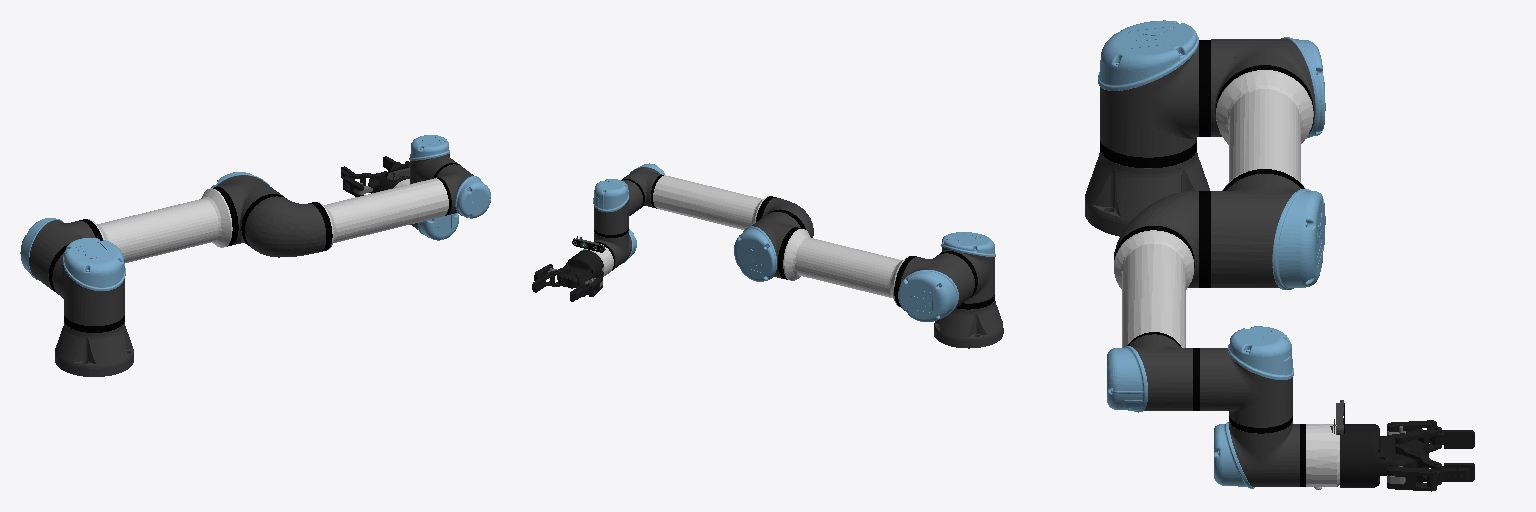
--- What the picture shows (computed from the rendered views, not written in the file) ---
The picture shows the robot from 3 angles, left to right: view 1: azimuth 30°, elevation 25°; view 2: azimuth 150°, elevation 25°; view 3: azimuth 270°, elevation 25°; orthographic projection.
Robot: mujoco_ur5e — 49 links, 48 joints (14 revolute, 34 fixed); root link world; default pose: all joints at 0.
Links seen in each view (by area): view 1: forearm_link, upper_arm_link, shoulder_link, base, wrist_1_link, wrist_2_link; view 2: upper_arm_link, forearm_link, base, wrist_1_link, shoulder_link, gripper_base, wrist_2_link; view 3: upper_arm_link, forearm_link, shoulder_link, wrist_1_link, base, wrist_2_link, gripper_base, wrist_3_link, left_coupler, base_mount, right_spring_link, left_spring_link (+1 smaller).
Boxes of the visible links, x1,y1,x2,y2 form: forearm_link: (245,163,490,257); upper_arm_link: (20,172,286,291); shoulder_link: (49,238,125,325); base: (55,315,133,376); wrist_1_link: (409,135,459,183); wrist_2_link: (410,213,458,240); upper_arm_link: (734,210,974,321); forearm_link: (622,163,813,237); base: (934,295,1003,348); wrist_1_link: (593,179,642,237); shoulder_link: (937,232,995,303); gripper_base: (557,252,600,288); wrist_2_link: (594,229,636,270); upper_arm_link: (1199,37,1325,289); forearm_link: (1107,191,1199,412); shoulder_link: (1098,20,1210,157); wrist_1_link: (1200,326,1293,433); base: (1085,141,1209,236); wrist_2_link: (1214,421,1305,488); gripper_base: (1352,424,1424,487); wrist_3_link: (1306,424,1339,489); left_coupler: (1387,467,1436,491); base_mount: (1340,424,1351,487); right_spring_link: (1395,427,1441,455); left_spring_link: (1395,444,1441,484).
Size in the robot's own frame: 0.9667 by 0.4627 by 0.2345 metres.
Meshes: 37 distinct files referenced, 42 mesh visuals loaded (36 binary STL); not drawn: 1 (reference not matched to a file when rendering).

robot.urdf — mujoco_ur5e:
<?xml version="1.0" ?>
<!--
    This URDF model was generated by transforming the MuJoCo model [2] using the tool [1].
    [1] https://pypi.org/project/mjcf-urdf-simple-converter/
    [2] https://github.com/isri-aist/RoboManipBaselines/tree/master/robo_manip_baselines/envs/assets/mujoco/robots/ur5e
-->
<robot name="mujoco_ur5e">
   <link name="world">
      <inertial>
         <origin xyz="0.0 0.0 0.0" rpy="0.0 0.0 0.0"/>
         <mass value="0.0"/>
         <inertia ixx="0.0" iyy="0.0" izz="0.0" ixy="0" ixz="0" iyz="0"/>
      </inertial>
   </link>
   <link name="ur5e_root_frame">
      <inertial>
         <origin xyz="0.0 0.0 0.0" rpy="0.0 0.0 0.0"/>
         <mass value="0.0"/>
         <inertia ixx="0.0" iyy="0.0" izz="0.0" ixy="0" ixz="0" iyz="0"/>
      </inertial>
   </link>
   <link name="world2ur5e_root_frame_fixed_jointbody">
      <inertial>
         <origin xyz="0.0 0.0 0.0" rpy="0.0 0.0 0.0"/>
         <mass value="0.001"/>
         <inertia ixx="1e-09" iyy="1e-09" izz="1e-09" ixy="0" ixz="0" iyz="0"/>
      </inertial>
   </link>
   <joint type="fixed" name="world2ur5e_root_frame_fixed">
      <parent link="world"/>
      <child link="world2ur5e_root_frame_fixed_jointbody"/>
      <origin xyz="0.0 0.0 0.0" rpy="0.0 0.0 0.0"/>
   </joint>
   <joint type="fixed" name="world2ur5e_root_frame_fixed_offset">
      <parent link="world2ur5e_root_frame_fixed_jointbody"/>
      <child link="ur5e_root_frame"/>
      <origin xyz="-0.0 -0.0 -0.0" rpy="0.0 0.0 0.0"/>
   </joint>
   <link name="base">
      <inertial>
         <origin xyz="0.0 0.0 0.0" rpy="0.0 0.0 0.0"/>
         <mass value="4.0"/>
         <inertia ixx="0.00443333156" iyy="0.00443333156" izz="0.0072" ixy="0" ixz="0" iyz="0"/>
      </inertial>
      <visual name="base_0">
         <origin xyz="6.729613291636444e-07 -3.658243672095132e-07 0.09357351479123255" rpy="-1.47188270226107 -1.5707855306182412 -2.9583795849873327"/>
         <geometry>
            <mesh filename="meshes/converted_base_0.stl"/>
         </geometry>
         <material name="black"/>
      </visual>
      <visual name="base_1">
         <origin xyz="1.5050970612118353e-07 5.029437897684572e-07 0.03113409208382618" rpy="-1.398999536983526 -1.570774933802305 -1.0876125512811239"/>
         <geometry>
            <mesh filename="meshes/converted_base_1.stl"/>
         </geometry>
         <material name="jointgray"/>
      </visual>
   </link>
   <link name="ur5e_root_frame2base_fixed_jointbody">
      <inertial>
         <origin xyz="0.0 0.0 0.0" rpy="0.0 0.0 0.0"/>
         <mass value="0.001"/>
         <inertia ixx="1e-09" iyy="1e-09" izz="1e-09" ixy="0" ixz="0" iyz="0"/>
      </inertial>
   </link>
   <joint type="fixed" name="ur5e_root_frame2base_fixed">
      <parent link="ur5e_root_frame"/>
      <child link="ur5e_root_frame2base_fixed_jointbody"/>
      <origin xyz="0.0 0.0 0.0" rpy="0.0 0.0 0.0"/>
   </joint>
   <joint type="fixed" name="ur5e_root_frame2base_fixed_offset">
      <parent link="ur5e_root_frame2base_fixed_jointbody"/>
      <child link="base"/>
      <origin xyz="-0.0 -0.0 -0.0" rpy="0.0 0.0 0.0"/>
   </joint>
   <link name="shoulder_link">
      <inertial>
         <origin xyz="0.0 0.0 0.0" rpy="0.0 0.0 0.0"/>
         <mass value="3.7"/>
         <inertia ixx="0.0102675" iyy="0.0102675" izz="0.00666" ixy="0" ixz="0" iyz="0"/>
      </inertial>
      <visual name="shoulder_0">
         <origin xyz="0.00015791990090556265 -0.008422927184789035 0.04825544231361248" rpy="2.972049948535049 -1.2403403851965114 -1.5664480416259279"/>
         <geometry>
            <mesh filename="meshes/converted_shoulder_0.stl"/>
         </geometry>
         <material name="urblue"/>
      </visual>
      <visual name="shoulder_1">
         <origin xyz="1.0221602485018881e-06 0.06888462434941042 -0.0005032847963257957" rpy="0.16997294871325141 -1.5622871640585956e-05 1.5708061583761173"/>
         <geometry>
            <mesh filename="meshes/converted_shoulder_1.stl"/>
         </geometry>
         <material name="black"/>
      </visual>
      <visual name="shoulder_2">
         <origin xyz="-4.987111589031359e-05 0.0005636150230643856 -0.01875771788843443" rpy="1.6252845451898668 0.7431999550369857 1.5734657719034488"/>
         <geometry>
            <mesh filename="meshes/converted_shoulder_2.stl"/>
         </geometry>
         <material name="jointgray"/>
      </visual>
   </link>
   <link name="shoulder_pan_joint_jointbody">
      <inertial>
         <origin xyz="0.0 0.0 0.0" rpy="0.0 0.0 0.0"/>
         <mass value="0.001"/>
         <inertia ixx="1e-09" iyy="1e-09" izz="1e-09" ixy="0" ixz="0" iyz="0"/>
      </inertial>
   </link>
   <joint type="revolute" name="shoulder_pan_joint">
      <parent link="base"/>
      <child link="shoulder_pan_joint_jointbody"/>
      <origin xyz="0.0 0.0 0.163" rpy="0.0 0.0 0.0"/>
      <axis xyz="0.0 0.0 1.0"/>
      <limit lower="-6.28319" upper="6.28319" effort="100" velocity="100"/>
   </joint>
   <joint type="fixed" name="shoulder_pan_joint_offset">
      <parent link="shoulder_pan_joint_jointbody"/>
      <child link="shoulder_link"/>
      <origin xyz="-0.0 -0.0 -0.0" rpy="0.0 0.0 0.0"/>
   </joint>
   <link name="upper_arm_link">
      <inertial>
         <origin xyz="0.0 0.0 0.2125" rpy="0.0 0.0 0.0"/>
         <mass value="8.393"/>
         <inertia ixx="0.133886" iyy="0.133886" izz="0.0151074" ixy="0" ixz="0" iyz="0"/>
      </inertial>
      <visual name="upperarm_0">
         <origin xyz="-3.5760646000637493e-06 -0.00019999968769833566 0.21213517773732127" rpy="-0.0003305440898112577 -1.48494256579923e-06 -0.35511939855508967"/>
         <geometry>
            <mesh filename="meshes/converted_upperarm_0.stl"/>
         </geometry>
         <material name="linkgray"/>
      </visual>
      <visual name="upperarm_1">
         <origin xyz="-7.533427155925417e-07 -0.02455902479462408 0.2981274589864789" rpy="0.17716176130958655 7.970340488805405e-05 -0.0004820288661456923"/>
         <geometry>
            <mesh filename="meshes/converted_upperarm_1.stl"/>
         </geometry>
         <material name="black"/>
      </visual>
      <visual name="upperarm_2">
         <origin xyz="1.2475193933552453e-05 -0.020613766259404608 0.21354779136318264" rpy="-4.278980147820466e-05 -0.009396328570252743 1.5726071657176126"/>
         <geometry>
            <mesh filename="meshes/converted_upperarm_2.stl"/>
         </geometry>
         <material name="jointgray"/>
      </visual>
      <visual name="upperarm_3">
         <origin xyz="-1.6738860146607153e-05 0.04530972331282584 0.21224046051237042" rpy="-1.117038519860003e-05 -0.0003347325829139436 1.5712747080499256"/>
         <geometry>
            <mesh filename="meshes/converted_upperarm_3.stl"/>
         </geometry>
         <material name="urblue"/>
      </visual>
   </link>
   <link name="shoulder_lift_joint_jointbody">
      <inertial>
         <origin xyz="0.0 0.0 0.0" rpy="0.0 0.0 0.0"/>
         <mass value="0.001"/>
         <inertia ixx="1e-09" iyy="1e-09" izz="1e-09" ixy="0" ixz="0" iyz="0"/>
      </inertial>
   </link>
   <joint type="revolute" name="shoulder_lift_joint">
      <parent link="shoulder_link"/>
      <child link="shoulder_lift_joint_jointbody"/>
      <origin xyz="0.0 0.138 0.0" rpy="-0.0 1.5707963267948966 0.0"/>
      <axis xyz="0.0 1.0 0.0"/>
      <limit lower="-6.28319" upper="6.28319" effort="100" velocity="100"/>
   </joint>
   <joint type="fixed" name="shoulder_lift_joint_offset">
      <parent link="shoulder_lift_joint_jointbody"/>
      <child link="upper_arm_link"/>
      <origin xyz="-0.0 -0.0 -0.0" rpy="0.0 0.0 0.0"/>
   </joint>
   <link name="forearm_link">
      <inertial>
         <origin xyz="0.0 0.0 0.196" rpy="0.0 0.0 0.0"/>
         <mass value="2.275"/>
         <inertia ixx="0.0311796" iyy="0.0311796" izz="0.004095" ixy="0" ixz="0" iyz="0"/>
      </inertial>
      <visual name="forearm_0">
         <origin xyz="2.6207450606710292e-05 -0.039869278793902285 0.3958893860897068" rpy="0.1489966672854065 0.3108521787989902 1.5710806059285622"/>
         <geometry>
            <mesh filename="meshes/converted_forearm_0.stl"/>
         </geometry>
         <material name="urblue"/>
      </visual>
      <visual name="forearm_1">
         <origin xyz="-2.3636833205504254e-05 -0.0004340911527384576 0.20434307929108567" rpy="0.0003357934988212907 -0.0005516117998196624 1.333297755723175"/>
         <geometry>
            <mesh filename="meshes/converted_forearm_1.stl"/>
         </geometry>
         <material name="linkgray"/>
      </visual>
      <visual name="forearm_2">
         <origin xyz="-9.661516749736769e-06 0.01697650909542407 0.25503902244340926" rpy="-0.1463016154163696 0.0006538606600001717 0.004920260000614754"/>
         <geometry>
            <mesh filename="meshes/converted_forearm_2.stl"/>
         </geometry>
         <material name="black"/>
      </visual>
      <visual name="forearm_3">
         <origin xyz="2.9752030802592747e-06 0.011960668315823576 0.16361682552290555" rpy="2.9784638189700452e-05 0.02032514003029151 1.5715676566435608"/>
         <geometry>
            <mesh filename="meshes/converted_forearm_3.stl"/>
         </geometry>
         <material name="jointgray"/>
      </visual>
   </link>
   <link name="elbow_joint_jointbody">
      <inertial>
         <origin xyz="0.0 0.0 0.0" rpy="0.0 0.0 0.0"/>
         <mass value="0.001"/>
         <inertia ixx="1e-09" iyy="1e-09" izz="1e-09" ixy="0" ixz="0" iyz="0"/>
      </inertial>
   </link>
   <joint type="revolute" name="elbow_joint">
      <parent link="upper_arm_link"/>
      <child link="elbow_joint_jointbody"/>
      <origin xyz="0.0 -0.131 0.425" rpy="0.0 0.0 0.0"/>
      <axis xyz="0.0 1.0 0.0"/>
      <limit lower="-3.1415" upper="3.1415" effort="100" velocity="100"/>
   </joint>
   <joint type="fixed" name="elbow_joint_offset">
      <parent link="elbow_joint_jointbody"/>
      <child link="forearm_link"/>
      <origin xyz="-0.0 -0.0 -0.0" rpy="0.0 0.0 0.0"/>
   </joint>
   <link name="wrist_1_link">
      <inertial>
         <origin xyz="0.0 0.127 0.0" rpy="0.0 0.0 0.0"/>
         <mass value="1.219"/>
         <inertia ixx="0.0025599" iyy="0.0025599" izz="0.0021942" ixy="0" ixz="0" iyz="0"/>
      </inertial>
      <visual name="wrist1_0">
         <origin xyz="-2.324781546803138e-05 0.12628514057599924 0.04897505965681284" rpy="-1.9266664753609 -1.5705837496211885 -0.8138833726102015"/>
         <geometry>
            <mesh filename="meshes/converted_wrist1_0.stl"/>
         </geometry>
         <material name="black"/>
      </visual>
      <visual name="wrist1_1">
         <origin xyz="-3.6644614818292445e-05 0.13040179175860142 -0.039703488660788" rpy="-3.065967817600465 -1.261342943128882 -1.5694033981029945"/>
         <geometry>
            <mesh filename="meshes/converted_wrist1_1.stl"/>
         </geometry>
         <material name="urblue"/>
      </visual>
      <visual name="wrist1_2">
         <origin xyz="-2.0991024420246793e-06 0.11289621782275673 0.01238833387042214" rpy="-3.140097697876837 -1.0305077633093638 -1.5723310737061327"/>
         <geometry>
            <mesh filename="meshes/converted_wrist1_2.stl"/>
         </geometry>
         <material name="jointgray"/>
      </visual>
   </link>
   <link name="wrist_1_joint_jointbody">
      <inertial>
         <origin xyz="0.0 0.0 0.0" rpy="0.0 0.0 0.0"/>
         <mass value="0.001"/>
         <inertia ixx="1e-09" iyy="1e-09" izz="1e-09" ixy="0" ixz="0" iyz="0"/>
      </inertial>
   </link>
   <joint type="revolute" name="wrist_1_joint">
      <parent link="forearm_link"/>
      <child link="wrist_1_joint_jointbody"/>
      <origin xyz="0.0 0.0 0.392" rpy="-0.0 1.5707963267948966 0.0"/>
      <axis xyz="0.0 1.0 0.0"/>
      <limit lower="-6.28319" upper="6.28319" effort="100" velocity="100"/>
   </joint>
   <joint type="fixed" name="wrist_1_joint_offset">
      <parent link="wrist_1_joint_jointbody"/>
      <child link="wrist_1_link"/>
      <origin xyz="-0.0 -0.0 -0.0" rpy="0.0 0.0 0.0"/>
   </joint>
   <link name="wrist_2_link">
      <inertial>
         <origin xyz="0.0 0.0 0.1" rpy="0.0 0.0 0.0"/>
         <mass value="1.219"/>
         <inertia ixx="0.0025599" iyy="0.0025599" izz="0.0021942" ixy="0" ixz="0" iyz="0"/>
      </inertial>
      <visual name="wrist2_0">
         <origin xyz="-3.800124318643313e-06 0.048536456164498844 0.09943580405134815" rpy="0.17748304010129212 2.000268876756195e-06 1.5707761132131597"/>
         <geometry>
            <mesh filename="meshes/converted_wrist2_0.stl"/>
         </geometry>
         <material name="black"/>
      </visual>
      <visual name="wrist2_1">
         <origin xyz="3.169641991937526e-05 -0.04020605573983935 0.10359119909236272" rpy="0.1111655407064902 0.3094663696047937 1.5711748782855464"/>
         <geometry>
            <mesh filename="meshes/converted_wrist2_1.stl"/>
         </geometry>
         <material name="urblue"/>
      </visual>
      <visual name="wrist2_2">
         <origin xyz="9.000236468802749e-07 0.016056655901336325 0.09663180262077588" rpy="-3.141105944926875 -0.8028358043095716 -1.5708829395525328"/>
         <geometry>
            <mesh filename="meshes/converted_wrist2_2.stl"/>
         </geometry>
         <material name="jointgray"/>
      </visual>
   </link>
   <link name="wrist_2_joint_jointbody">
      <inertial>
         <origin xyz="0.0 0.0 0.0" rpy="0.0 0.0 0.0"/>
         <mass value="0.001"/>
         <inertia ixx="1e-09" iyy="1e-09" izz="1e-09" ixy="0" ixz="0" iyz="0"/>
      </inertial>
   </link>
   <joint type="revolute" name="wrist_2_joint">
      <parent link="wrist_1_link"/>
      <child link="wrist_2_joint_jointbody"/>
      <origin xyz="0.0 0.127 0.0" rpy="0.0 0.0 0.0"/>
      <axis xyz="0.0 0.0 1.0"/>
      <limit lower="-6.28319" upper="6.28319" effort="100" velocity="100"/>
   </joint>
   <joint type="fixed" name="wrist_2_joint_offset">
      <parent link="wrist_2_joint_jointbody"/>
      <child link="wrist_2_link"/>
      <origin xyz="-0.0 -0.0 -0.0" rpy="0.0 0.0 0.0"/>
   </joint>
   <link name="wrist_3_link">
      <inertial>
         <origin xyz="0.0 0.0771683 0.0" rpy="0.0 0.0 1.5707963267948963"/>
         <mass value="0.1889"/>
         <inertia ixx="0.000132134" iyy="9.90863e-05" izz="9.90863e-05" ixy="0" ixz="0" iyz="0"/>
      </inertial>
      <visual name="wrist3">
         <origin xyz="1.3730400112049665e-05 0.07930911085542494 -0.0005378685093544538" rpy="0.22606076193614955 0.004863637864060744 1.5703149455120666"/>
         <geometry>
            <mesh filename="meshes/converted_wrist3.stl"/>
         </geometry>
         <material name="linkgray"/>
      </visual>
   </link>
   <link name="wrist_3_joint_jointbody">
      <inertial>
         <origin xyz="0.0 0.0 0.0" rpy="0.0 0.0 0.0"/>
         <mass value="0.001"/>
         <inertia ixx="1e-09" iyy="1e-09" izz="1e-09" ixy="0" ixz="0" iyz="0"/>
      </inertial>
   </link>
   <joint type="revolute" name="wrist_3_joint">
      <parent link="wrist_2_link"/>
      <child link="wrist_3_joint_jointbody"/>
      <origin xyz="0.0 0.0 0.1" rpy="0.0 0.0 0.0"/>
      <axis xyz="0.0 1.0 0.0"/>
      <limit lower="-6.28319" upper="6.28319" effort="100" velocity="100"/>
   </joint>
   <joint type="fixed" name="wrist_3_joint_offset">
      <parent link="wrist_3_joint_jointbody"/>
      <child link="wrist_3_link"/>
      <origin xyz="-0.0 -0.0 -0.0" rpy="0.0 0.0 0.0"/>
   </joint>
   <link name="base_mount">
      <inertial>
         <origin xyz="-0.0003605835908682333 8.53627523634894e-05 -5.9199370819193636e-05" rpy="0.010714379467335666 -1.5679504402226834 3.132357276590297"/>
         <mass value="0.15000285388020093"/>
         <inertia ixx="0.00010234548781984302" iyy="5.3599686956511186e-05" izz="5.217176229736668e-05" ixy="0" ixz="0" iyz="0"/>
      </inertial>
      <visual name="base_mount">
         <origin xyz="-0.0003605835908682333 8.53627523634894e-05 -5.919937081919364e-05" rpy="0.01071452283964236 -1.5679504779870121 3.1323571332523317"/>
         <geometry>
            <mesh filename="meshes/converted_base_mount.stl"/>
         </geometry>
         <material name="gripper_black"/>
      </visual>
   </link>
   <link name="wrist_3_link2base_mount_fixed_jointbody">
      <inertial>
         <origin xyz="0.0 0.0 0.0" rpy="0.0 0.0 0.0"/>
         <mass value="0.001"/>
         <inertia ixx="1e-09" iyy="1e-09" izz="1e-09" ixy="0" ixz="0" iyz="0"/>
      </inertial>
   </link>
   <joint type="fixed" name="wrist_3_link2base_mount_fixed">
      <parent link="wrist_3_link"/>
      <child link="wrist_3_link2base_mount_fixed_jointbody"/>
      <origin xyz="0.0 0.1 0.0" rpy="-1.5707963267948957 0.0 0.0"/>
   </joint>
   <joint type="fixed" name="wrist_3_link2base_mount_fixed_offset">
      <parent link="wrist_3_link2base_mount_fixed_jointbody"/>
      <child link="base_mount"/>
      <origin xyz="-0.0 -0.0 -0.0" rpy="0.0 0.0 0.0"/>
   </joint>
   <link name="gripper_base">
      <inertial>
         <origin xyz="0.0 -2.70394e-05 0.0354675" rpy="-0.0030569776193478805 0.0 0.0"/>
         <mass value="0.777441"/>
         <inertia ixx="0.000260285" iyy="0.000225381" izz="0.000152708" ixy="0" ixz="0" iyz="0"/>
      </inertial>
      <visual name="gripper_base">
         <origin xyz="9.197026165775215e-08 -2.7039392101011293e-05 0.0354674813211748" rpy="-0.003056990542377661 7.761755149715555e-08 2.539010455466519e-05"/>
         <geometry>
            <mesh filename="meshes/converted_gripper_base.stl"/>
         </geometry>
         <material name="gripper_black"/>
      </visual>
   </link>
   <link name="base_mount2gripper_base_fixed_jointbody">
      <inertial>
         <origin xyz="0.0 0.0 0.0" rpy="0.0 0.0 0.0"/>
         <mass value="0.001"/>
         <inertia ixx="1e-09" iyy="1e-09" izz="1e-09" ixy="0" ixz="0" iyz="0"/>
      </inertial>
   </link>
   <joint type="fixed" name="base_mount2gripper_base_fixed">
      <parent link="base_mount"/>
      <child link="base_mount2gripper_base_fixed_jointbody"/>
      <origin xyz="0.0 0.0 0.0038" rpy="0.0 0.0 -1.5707963267948957"/>
   </joint>
   <joint type="fixed" name="base_mount2gripper_base_fixed_offset">
      <parent link="base_mount2gripper_base_fixed_jointbody"/>
      <child link="gripper_base"/>
      <origin xyz="-0.0 -0.0 -0.0" rpy="0.0 0.0 0.0"/>
   </joint>
   <link name="right_driver">
      <inertial>
         <origin xyz="2.96931e-12 0.0177547 0.00107314" rpy="1.6425151722801996 0.0 0.0"/>
         <mass value="0.00899563"/>
         <inertia ixx="1.72352e-06" iyy="1.60906e-06" izz="3.22006e-07" ixy="0" ixz="0" iyz="0"/>
      </inertial>
      <visual name="driver">
         <origin xyz="2.9693095360038857e-12 0.017754693326339378 0.001073141648831213" rpy="1.642515910368616 0.0 0.0"/>
         <geometry>
            <mesh filename="meshes/converted_driver.stl"/>
         </geometry>
         <material name="gray"/>
      </visual>
   </link>
   <link name="right_driver_joint_jointbody">
      <inertial>
         <origin xyz="0.0 0.0 0.0" rpy="0.0 0.0 0.0"/>
         <mass value="0.001"/>
         <inertia ixx="1e-09" iyy="1e-09" izz="1e-09" ixy="0" ixz="0" iyz="0"/>
      </inertial>
   </link>
   <joint type="revolute" name="right_driver_joint">
      <parent link="gripper_base"/>
      <child link="right_driver_joint_jointbody"/>
      <origin xyz="0.0 0.0306011 0.054904" rpy="0.0 0.0 0.0"/>
      <axis xyz="1.0 0.0 0.0"/>
      <limit lower="0.0" upper="0.8" effort="100" velocity="100"/>
   </joint>
   <joint type="fixed" name="right_driver_joint_offset">
      <parent link="right_driver_joint_jointbody"/>
      <child link="right_driver"/>
      <origin xyz="-0.0 -0.0 -0.0" rpy="0.0 0.0 0.0"/>
   </joint>
   <link name="right_coupler">
      <inertial>
         <origin xyz="0.0 0.00301209 0.0232175" rpy="0.0 0.12903854724165864 1.5707963267948966"/>
         <mass value="0.0140974"/>
         <inertia ixx="4.16206e-06" iyy="3.52216e-06" izz="8.88131e-07" ixy="0" ixz="0" iyz="0"/>
      </inertial>
      <visual name="coupler">
         <origin xyz="8.458042296975096e-13 0.003012085414741031 0.023217538318615817" rpy="0.0 0.12903875752327765 1.5707963267948966"/>
         <geometry>
            <mesh filename="meshes/converted_coupler.stl"/>
         </geometry>
         <material name="gripper_black"/>
      </visual>
   </link>
   <link name="right_coupler_joint_jointbody">
      <inertial>
         <origin xyz="0.0 0.0 0.0" rpy="0.0 0.0 0.0"/>
         <mass value="0.001"/>
         <inertia ixx="1e-09" iyy="1e-09" izz="1e-09" ixy="0" ixz="0" iyz="0"/>
      </inertial>
   </link>
   <joint type="revolute" name="right_coupler_joint">
      <parent link="right_driver"/>
      <child link="right_coupler_joint_jointbody"/>
      <origin xyz="0.0 0.0315 -0.0041" rpy="0.0 0.0 0.0"/>
      <axis xyz="1.0 0.0 0.0"/>
      <limit lower="-1.57" upper="0.0" effort="100" velocity="100"/>
   </joint>
   <joint type="fixed" name="right_coupler_joint_offset">
      <parent link="right_coupler_joint_jointbody"/>
      <child link="right_coupler"/>
      <origin xyz="-0.0 -0.0 -0.0" rpy="0.0 0.0 0.0"/>
   </joint>
   <link name="right_spring_link">
      <inertial>
         <origin xyz="-8.65005e-09 0.0181624 0.0212658" rpy="0.0 0.7068443151232264 1.5707963267948966"/>
         <mass value="0.0221642"/>
         <inertia ixx="8.96853e-06" iyy="6.71733e-06" izz="2.63931e-06" ixy="0" ixz="0" iyz="0"/>
      </inertial>
      <visual name="spring_link">
         <origin xyz="-8.650050113628342e-09 0.018162399838260603 0.021265809871824037" rpy="0.0 0.7068435008139309 1.5707963267948966"/>
         <geometry>
            <mesh filename="meshes/converted_spring_link.stl"/>
         </geometry>
         <material name="gripper_black"/>
      </visual>
   </link>
   <link name="right_spring_link_joint_jointbody">
      <inertial>
         <origin xyz="0.0 0.0 0.0" rpy="0.0 0.0 0.0"/>
         <mass value="0.001"/>
         <inertia ixx="1e-09" iyy="1e-09" izz="1e-09" ixy="0" ixz="0" iyz="0"/>
      </inertial>
   </link>
   <joint type="revolute" name="right_spring_link_joint">
      <parent link="gripper_base"/>
      <child link="right_spring_link_joint_jointbody"/>
      <origin xyz="0.0 0.0132 0.0609" rpy="0.0 0.0 0.0"/>
      <axis xyz="1.0 0.0 0.0"/>
      <limit lower="-0.29670597283" upper="0.8" effort="100" velocity="100"/>
   </joint>
   <joint type="fixed" name="right_spring_link_joint_offset">
      <parent link="right_spring_link_joint_jointbody"/>
      <child link="right_spring_link"/>
      <origin xyz="-0.0 -0.0 -0.0" rpy="0.0 0.0 0.0"/>
   </joint>
   <link name="right_follower">
      <inertial>
         <origin xyz="0.0 -0.011046 0.0124786" rpy="0.32977841348127324 0.0 0.0"/>
         <mass value="0.0125222"/>
         <inertia ixx="2.67415e-06" iyy="2.4559e-06" izz="6.02031e-07" ixy="0" ixz="0" iyz="0"/>
      </inertial>
      <visual name="follower">
         <origin xyz="-8.222505669797204e-08 -0.011045964820441189 0.012478641054290796" rpy="0.3343560463823991 1.1571605218252401e-05 4.019967359436549e-06"/>
         <geometry>
            <mesh filename="meshes/converted_follower.stl"/>
         </geometry>
         <material name="gripper_black"/>
      </visual>
   </link>
   <link name="right_follower_joint_jointbody">
      <inertial>
         <origin xyz="0.0 0.0 0.0" rpy="0.0 0.0 0.0"/>
         <mass value="0.001"/>
         <inertia ixx="1e-09" iyy="1e-09" izz="1e-09" ixy="0" ixz="0" iyz="0"/>
      </inertial>
   </link>
   <joint type="revolute" name="right_follower_joint">
      <parent link="right_spring_link"/>
      <child link="right_follower_joint_jointbody"/>
      <origin xyz="0.0 0.037000000000000005 0.044" rpy="0.0 0.0 0.0"/>
      <axis xyz="1.0 0.0 0.0"/>
      <limit lower="-0.872664" upper="0.872664" effort="100" velocity="100"/>
   </joint>
   <joint type="fixed" name="right_follower_joint_offset">
      <parent link="right_follower_joint_jointbody"/>
      <child link="right_follower"/>
      <origin xyz="-0.0 0.018 -0.0065" rpy="0.0 0.0 0.0"/>
   </joint>
   <link name="right_pad">
      <inertial>
         <origin xyz="0.0 -0.0025 0.0185" rpy="0.0 0.0 1.5707963267948963"/>
         <mass value="0.0035"/>
         <inertia ixx="4.73958e-07" iyy="3.64583e-07" izz="1.23958e-07" ixy="0" ixz="0" iyz="0"/>
      </inertial>
      <visual name="pad">
         <origin xyz="1.9278732063789526e-14 -0.0024999999150168138 0.018517375704529604" rpy="0.0 0.0 1.5707963267948966"/>
         <geometry>
            <mesh filename="meshes/converted_pad.stl"/>
         </geometry>
         <material name="gripper_black"/>
      </visual>
   </link>
   <link name="right_follower2right_pad_fixed_jointbody">
      <inertial>
         <origin xyz="0.0 0.0 0.0" rpy="0.0 0.0 0.0"/>
         <mass value="0.001"/>
         <inertia ixx="1e-09" iyy="1e-09" izz="1e-09" ixy="0" ixz="0" iyz="0"/>
      </inertial>
   </link>
   <joint type="fixed" name="right_follower2right_pad_fixed">
      <parent link="right_follower"/>
      <child link="right_follower2right_pad_fixed_jointbody"/>
      <origin xyz="0.0 -0.0189 0.01352" rpy="0.0 0.0 0.0"/>
   </joint>
   <joint type="fixed" name="right_follower2right_pad_fixed_offset">
      <parent link="right_follower2right_pad_fixed_jointbody"/>
      <child link="right_pad"/>
      <origin xyz="-0.0 -0.0 -0.0" rpy="0.0 0.0 0.0"/>
   </joint>
   <link name="right_silicone_pad">
      <inertial>
         <origin xyz="1.9279010081721142e-14 -0.005799999926239252 0.018517375704574398" rpy="0.0 0.0 1.5707963267948963"/>
         <mass value="0.0013028120143261008"/>
         <inertia ixx="2.0080436065436886e-07" iyy="1.4953603981518107e-07" izz="5.1824187343216365e-08" ixy="0" ixz="0" iyz="0"/>
      </inertial>
      <visual name="silicone_pad">
         <origin xyz="1.9279010081721142e-14 -0.005799999926239252 0.018517375704574398" rpy="0.0 0.0 1.5707963267948966"/>
         <geometry>
            <mesh filename="meshes/converted_silicone_pad.stl"/>
         </geometry>
         <material name="gripper_black"/>
      </visual>
   </link>
   <link name="right_pad2right_silicone_pad_fixed_jointbody">
      <inertial>
         <origin xyz="0.0 0.0 0.0" rpy="0.0 0.0 0.0"/>
         <mass value="0.001"/>
         <inertia ixx="1e-09" iyy="1e-09" izz="1e-09" ixy="0" ixz="0" iyz="0"/>
      </inertial>
   </link>
   <joint type="fixed" name="right_pad2right_silicone_pad_fixed">
      <parent link="right_pad"/>
      <child link="right_pad2right_silicone_pad_fixed_jointbody"/>
      <origin xyz="0.0 0.0 0.0" rpy="0.0 0.0 0.0"/>
   </joint>
   <joint type="fixed" name="right_pad2right_silicone_pad_fixed_offset">
      <parent link="right_pad2right_silicone_pad_fixed_jointbody"/>
      <child link="right_silicone_pad"/>
      <origin xyz="-0.0 -0.0 -0.0" rpy="0.0 0.0 0.0"/>
   </joint>
   <link name="left_driver">
      <inertial>
         <origin xyz="0.0 0.0177547 0.00107314" rpy="1.6425151722801996 0.0 0.0"/>
         <mass value="0.00899563"/>
         <inertia ixx="1.72352e-06" iyy="1.60906e-06" izz="3.22006e-07" ixy="0" ixz="0" iyz="0"/>
      </inertial>
      <visual name="driver">
         <origin xyz="2.9693095360038857e-12 0.017754693326339378 0.001073141648831213" rpy="1.642515910368616 0.0 0.0"/>
         <geometry>
            <mesh filename="meshes/converted_driver.stl"/>
         </geometry>
         <material name="gray"/>
      </visual>
   </link>
   <link name="left_driver_joint_jointbody">
      <inertial>
         <origin xyz="0.0 0.0 0.0" rpy="0.0 0.0 0.0"/>
         <mass value="0.001"/>
         <inertia ixx="1e-09" iyy="1e-09" izz="1e-09" ixy="0" ixz="0" iyz="0"/>
      </inertial>
   </link>
   <joint type="revolute" name="left_driver_joint">
      <parent link="gripper_base"/>
      <child link="left_driver_joint_jointbody"/>
      <origin xyz="0.0 -0.0306011 0.054904" rpy="0.0 0.0 3.141592653589793"/>
      <axis xyz="1.0 0.0 0.0"/>
      <limit lower="0.0" upper="0.8" effort="100" velocity="100"/>
   </joint>
   <joint type="fixed" name="left_driver_joint_offset">
      <parent link="left_driver_joint_jointbody"/>
      <child link="left_driver"/>
      <origin xyz="-0.0 -0.0 -0.0" rpy="0.0 0.0 0.0"/>
   </joint>
   <link name="left_coupler">
      <inertial>
         <origin xyz="0.0 0.00301209 0.0232175" rpy="0.0 0.12903854724165864 1.5707963267948966"/>
         <mass value="0.0140974"/>
         <inertia ixx="4.16206e-06" iyy="3.52216e-06" izz="8.88131e-07" ixy="0" ixz="0" iyz="0"/>
      </inertial>
      <visual name="coupler">
         <origin xyz="8.458042296975096e-13 0.003012085414741031 0.023217538318615817" rpy="0.0 0.12903875752327765 1.5707963267948966"/>
         <geometry>
            <mesh filename="meshes/converted_coupler.stl"/>
         </geometry>
         <material name="gripper_black"/>
      </visual>
   </link>
   <link name="left_coupler_joint_jointbody">
      <inertial>
         <origin xyz="0.0 0.0 0.0" rpy="0.0 0.0 0.0"/>
         <mass value="0.001"/>
         <inertia ixx="1e-09" iyy="1e-09" izz="1e-09" ixy="0" ixz="0" iyz="0"/>
      </inertial>
   </link>
   <joint type="revolute" name="left_coupler_joint">
      <parent link="left_driver"/>
      <child link="left_coupler_joint_jointbody"/>
      <origin xyz="0.0 0.0315 -0.0041" rpy="0.0 0.0 0.0"/>
      <axis xyz="1.0 0.0 0.0"/>
      <limit lower="-1.57" upper="0.0" effort="100" velocity="100"/>
   </joint>
   <joint type="fixed" name="left_coupler_joint_offset">
      <parent link="left_coupler_joint_jointbody"/>
      <child link="left_coupler"/>
      <origin xyz="-0.0 -0.0 -0.0" rpy="0.0 0.0 0.0"/>
   </joint>
   <link name="left_spring_link">
      <inertial>
         <origin xyz="-8.65005e-09 0.0181624 0.0212658" rpy="0.0 0.7068443151232264 1.5707963267948966"/>
         <mass value="0.0221642"/>
         <inertia ixx="8.96853e-06" iyy="6.71733e-06" izz="2.63931e-06" ixy="0" ixz="0" iyz="0"/>
      </inertial>
      <visual name="spring_link">
         <origin xyz="-8.650050113628342e-09 0.018162399838260603 0.021265809871824037" rpy="0.0 0.7068435008139309 1.5707963267948966"/>
         <geometry>
            <mesh filename="meshes/converted_spring_link.stl"/>
         </geometry>
         <material name="gripper_black"/>
      </visual>
   </link>
   <link name="left_spring_link_joint_jointbody">
      <inertial>
         <origin xyz="0.0 0.0 0.0" rpy="0.0 0.0 0.0"/>
         <mass value="0.001"/>
         <inertia ixx="1e-09" iyy="1e-09" izz="1e-09" ixy="0" ixz="0" iyz="0"/>
      </inertial>
   </link>
   <joint type="revolute" name="left_spring_link_joint">
      <parent link="gripper_base"/>
      <child link="left_spring_link_joint_jointbody"/>
      <origin xyz="0.0 -0.0132 0.0609" rpy="0.0 0.0 3.141592653589793"/>
      <axis xyz="1.0 0.0 0.0"/>
      <limit lower="-0.29670597283" upper="0.8" effort="100" velocity="100"/>
   </joint>
   <joint type="fixed" name="left_spring_link_joint_offset">
      <parent link="left_spring_link_joint_jointbody"/>
      <child link="left_spring_link"/>
      <origin xyz="-0.0 -0.0 -0.0" rpy="0.0 0.0 0.0"/>
   </joint>
   <link name="left_follower">
      <inertial>
         <origin xyz="0.0 -0.011046 0.0124786" rpy="0.32977841348127324 0.0 0.0"/>
         <mass value="0.0125222"/>
         <inertia ixx="2.67415e-06" iyy="2.4559e-06" izz="6.02031e-07" ixy="0" ixz="0" iyz="0"/>
      </inertial>
      <visual name="follower">
         <origin xyz="-8.222505669797204e-08 -0.011045964820441189 0.012478641054290796" rpy="0.3343560463823991 1.1571605218252401e-05 4.019967359436549e-06"/>
         <geometry>
            <mesh filename="meshes/converted_follower.stl"/>
         </geometry>
         <material name="gripper_black"/>
      </visual>
   </link>
   <link name="left_follower_joint_jointbody">
      <inertial>
         <origin xyz="0.0 0.0 0.0" rpy="0.0 0.0 0.0"/>
         <mass value="0.001"/>
         <inertia ixx="1e-09" iyy="1e-09" izz="1e-09" ixy="0" ixz="0" iyz="0"/>
      </inertial>
   </link>
   <joint type="revolute" name="left_follower_joint">
      <parent link="left_spring_link"/>
      <child link="left_follower_joint_jointbody"/>
      <origin xyz="0.0 0.037000000000000005 0.044" rpy="0.0 0.0 0.0"/>
      <axis xyz="1.0 0.0 0.0"/>
      <limit lower="-0.872664" upper="0.872664" effort="100" velocity="100"/>
   </joint>
   <joint type="fixed" name="left_follower_joint_offset">
      <parent link="left_follower_joint_jointbody"/>
      <child link="left_follower"/>
      <origin xyz="-0.0 0.018 -0.0065" rpy="0.0 0.0 0.0"/>
   </joint>
   <link name="left_pad">
      <inertial>
         <origin xyz="0.0 -0.0025 0.0185" rpy="0.0 0.0 1.5707963267948963"/>
         <mass value="0.0035"/>
         <inertia ixx="4.73958e-07" iyy="3.64583e-07" izz="1.23958e-07" ixy="0" ixz="0" iyz="0"/>
      </inertial>
      <visual name="pad">
         <origin xyz="1.9278732063789526e-14 -0.0024999999150168138 0.018517375704529604" rpy="0.0 0.0 1.5707963267948966"/>
         <geometry>
            <mesh filename="meshes/converted_pad.stl"/>
         </geometry>
         <material name="gripper_black"/>
      </visual>
   </link>
   <link name="left_follower2left_pad_fixed_jointbody">
      <inertial>
         <origin xyz="0.0 0.0 0.0" rpy="0.0 0.0 0.0"/>
         <mass value="0.001"/>
         <inertia ixx="1e-09" iyy="1e-09" izz="1e-09" ixy="0" ixz="0" iyz="0"/>
      </inertial>
   </link>
   <joint type="fixed" name="left_follower2left_pad_fixed">
      <parent link="left_follower"/>
      <child link="left_follower2left_pad_fixed_jointbody"/>
      <origin xyz="0.0 -0.0189 0.01352" rpy="0.0 0.0 0.0"/>
   </joint>
   <joint type="fixed" name="left_follower2left_pad_fixed_offset">
      <parent link="left_follower2left_pad_fixed_jointbody"/>
      <child link="left_pad"/>
      <origin xyz="-0.0 -0.0 -0.0" rpy="0.0 0.0 0.0"/>
   </joint>
   <link name="left_silicone_pad">
      <inertial>
         <origin xyz="1.9279010081721142e-14 -0.005799999926239252 0.018517375704574398" rpy="0.0 0.0 1.5707963267948963"/>
         <mass value="0.0013028120143261008"/>
         <inertia ixx="2.0080436065436886e-07" iyy="1.4953603981518107e-07" izz="5.1824187343216365e-08" ixy="0" ixz="0" iyz="0"/>
      </inertial>
      <visual name="silicone_pad">
         <origin xyz="1.9279010081721142e-14 -0.005799999926239252 0.018517375704574398" rpy="0.0 0.0 1.5707963267948966"/>
         <geometry>
            <mesh filename="meshes/converted_silicone_pad.stl"/>
         </geometry>
         <material name="gripper_black"/>
      </visual>
   </link>
   <link name="left_pad2left_silicone_pad_fixed_jointbody">
      <inertial>
         <origin xyz="0.0 0.0 0.0" rpy="0.0 0.0 0.0"/>
         <mass value="0.001"/>
         <inertia ixx="1e-09" iyy="1e-09" izz="1e-09" ixy="0" ixz="0" iyz="0"/>
      </inertial>
   </link>
   <joint type="fixed" name="left_pad2left_silicone_pad_fixed">
      <parent link="left_pad"/>
      <child link="left_pad2left_silicone_pad_fixed_jointbody"/>
      <origin xyz="0.0 0.0 0.0" rpy="0.0 0.0 0.0"/>
   </joint>
   <joint type="fixed" name="left_pad2left_silicone_pad_fixed_offset">
      <parent link="left_pad2left_silicone_pad_fixed_jointbody"/>
      <child link="left_silicone_pad"/>
      <origin xyz="-0.0 -0.0 -0.0" rpy="0.0 0.0 0.0"/>
   </joint>
   <link name="d435i">
      <inertial>
         <origin xyz="0.0014511348017872574 -0.0003193267750761583 -0.01354119004097661" rpy="1.6323782071719153 -1.4906062228156745 1.5071320126951782"/>
         <mass value="0.072"/>
         <inertia ixx="3.799399738297598e-05" iyy="3.70549969728162e-05" izz="4.554668915769219e-06" ixy="0" ixz="0" iyz="0"/>
      </inertial>
      <visual name="d435i_0">
         <origin xyz="-0.007502287323788545 3.0005508763874497e-07 -0.0013673948796411991" rpy="3.141592653589793 -1.5707963267948966 0.0"/>
         <geometry>
            <mesh filename="meshes/converted_d435i_0.stl"/>
         </geometry>
         <material name="IR_Lens"/>
      </visual>
      <visual name="d435i_1">
         <origin xyz="-0.011499967618063702 -2.5466330329643412e-08 -0.003978610932321857" rpy="1.5707963267948966 -1.5707963267948966 0.0"/>
         <geometry>
            <mesh filename="meshes/converted_d435i_1.stl"/>
         </geometry>
         <material name="IR_Emitter_Lens"/>
      </visual>
      <visual name="d435i_2">
         <origin xyz="-0.006740902082927329 9.621788091553945e-05 -0.002869882318486055" rpy="1.5909447520597275 -1.3518688989480427 1.5615809337103432"/>
         <geometry>
            <mesh filename="meshes/converted_d435i_2.stl"/>
         </geometry>
         <material name="IR_Rim"/>
      </visual>
      <visual name="d435i_3">
         <origin xyz="-0.007508819633473903 -1.048028024602221e-06 -0.0011700158943132035" rpy="3.141592653589793 -1.5707963267948966 0.0"/>
         <geometry>
            <mesh filename="meshes/converted_d435i_3.stl"/>
         </geometry>
         <material name="IR_Lens"/>
      </visual>
      <visual name="d435i_4">
         <origin xyz="-0.005241830708849777 0.0002548412830941167 -0.007093877744591685" rpy="0.08323071530627812 -1.5455844769762819 3.069567742664027"/>
         <geometry>
            <mesh filename="meshes/converted_d435i_4.stl"/>
         </geometry>
         <material name="Cameras_Gray"/>
      </visual>
      <visual name="d435i_5">
         <origin xyz="-0.0028610612363454426 -8.261777537953463e-05 -0.0016461957198015743" rpy="-1.3473582254981396 -1.5641950357529448 -1.7931440866286792"/>
         <geometry>
            <mesh filename="meshes/converted_d435i_5.stl"/>
         </geometry>
         <material name="Black_Acrylic"/>
      </visual>
      <visual name="d435i_6">
         <origin xyz="0.03249426520107115 4.7493657758214e-06 -0.0051918172363593015" rpy="3.1302011949776776 -1.5707963267948966 0.0"/>
         <geometry>
            <mesh filename="meshes/converted_d435i_6.stl"/>
         </geometry>
         <material name="Black_Acrylic"/>
      </visual>
      <visual name="d435i_7">
         <origin xyz="0.032499927055554816 6.196556999013861e-07 -0.0036345687064755767" rpy="0.0 0.0 0.0"/>
         <geometry>
            <mesh filename="meshes/converted_d435i_7.stl"/>
         </geometry>
         <material name="RGB_Pupil"/>
      </visual>
      <visual name="d435i_8">
         <origin xyz="0.0014511348017872574 -0.0003193267750761583 -0.01354119004097661" rpy="1.6323782072389574 -1.4906062228061316 1.507132012701543"/>
         <geometry>
            <mesh filename="meshes/converted_d435i_8.stl"/>
         </geometry>
         <material name="Metal_Casing"/>
      </visual>
   </link>
   <link name="wrist_3_link2d435i_fixed_jointbody">
      <inertial>
         <origin xyz="0.0 0.0 0.0" rpy="0.0 0.0 0.0"/>
         <mass value="0.001"/>
         <inertia ixx="1e-09" iyy="1e-09" izz="1e-09" ixy="0" ixz="0" iyz="0"/>
      </inertial>
   </link>
   <joint type="fixed" name="wrist_3_link2d435i_fixed">
      <parent link="wrist_3_link"/>
      <child link="wrist_3_link2d435i_fixed_jointbody"/>
      <origin xyz="0.0 0.1 -0.05" rpy="-1.5708000000000002 0.0 0.0"/>
   </joint>
   <joint type="fixed" name="wrist_3_link2d435i_fixed_offset">
      <parent link="wrist_3_link2d435i_fixed_jointbody"/>
      <child link="d435i"/>
      <origin xyz="-0.0 -0.0 -0.0" rpy="0.0 0.0 0.0"/>
   </joint>
   <link name="camera_frame">
      <inertial>
         <origin xyz="0.0 0.0 0.0" rpy="0.0 0.0 0.0"/>
         <mass value="0.0"/>
         <inertia ixx="0.0" iyy="0.0" izz="0.0" ixy="0" ixz="0" iyz="0"/>
      </inertial>
   </link>
   <link name="d435i2camera_frame_fixed_jointbody">
      <inertial>
         <origin xyz="0.0 0.0 0.0" rpy="0.0 0.0 0.0"/>
         <mass value="0.001"/>
         <inertia ixx="1e-09" iyy="1e-09" izz="1e-09" ixy="0" ixz="0" iyz="0"/>
      </inertial>
   </link>
   <joint type="fixed" name="d435i2camera_frame_fixed">
      <parent link="d435i"/>
      <child link="d435i2camera_frame_fixed_jointbody"/>
      <origin xyz="0.0 0.0 0.0" rpy="0.0 0.0 0.0"/>
   </joint>
   <joint type="fixed" name="d435i2camera_frame_fixed_offset">
      <parent link="d435i2camera_frame_fixed_jointbody"/>
      <child link="camera_frame"/>
      <origin xyz="-0.0 -0.0 -0.0" rpy="0.0 0.0 0.0"/>
   </joint>
   <material name="black">
     <color rgba="0.033 0.033 0.033 1"/>
   </material>
   <material name="jointgray">
     <color rgba="0.278 0.278 0.278 1"/>
   </material>
   <material name="linkgray">
     <color rgba="0.82 0.82 0.82 1"/>
   </material>
   <material name="urblue">
     <color rgba="0.49 0.678 0.8 1"/>
   </material>
   <material name="metal">
     <color rgba="0.58 0.58 0.58 1"/>
   </material>
   <material name="silicone">
     <color rgba="0.1882 0.1882 0.1882 1"/>
   </material>
   <material name="gray">
     <color rgba="0.4627 0.4627 0.4627 1"/>
   </material>
   <material name="gripper_black">
     <color rgba="0.149 0.149 0.149 1"/>
   </material>
   <material name="Black_Acrylic">
     <color rgba="0.070360 0.070360 0.070360 1"/>
   </material>
   <material name="Cameras_Gray">
     <color rgba="0.296138 0.296138 0.296138 1"/>
   </material>
   <material name="IR_Emitter_Lens">
     <color rgba="0.287440 0.665387 0.327778 1"/>
   </material>
   <material name="IR_Lens">
     <color rgba="0.035601 0.035601 0.035601 1"/>
   </material>
   <material name="IR_Rim">
     <color rgba="0.799102 0.806952 0.799103 1"/>
   </material>
   <material name="Metal_Casing">
     <color rgba="1 1 1 1"/>
   </material>
   <material name="RGB_Pupil">
     <color rgba="0.087140 0.002866 0.009346 1"/>
   </material>
</robot>
